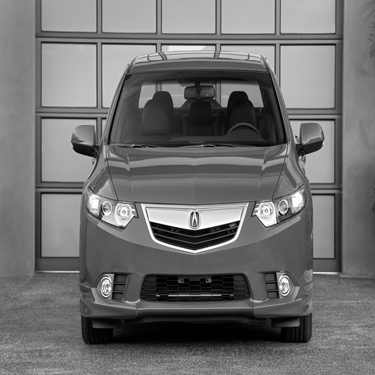car: (54, 37, 328, 351)
